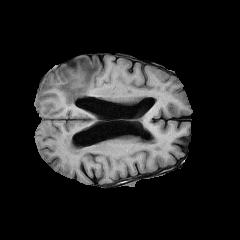glioma: (57, 58, 99, 105)
